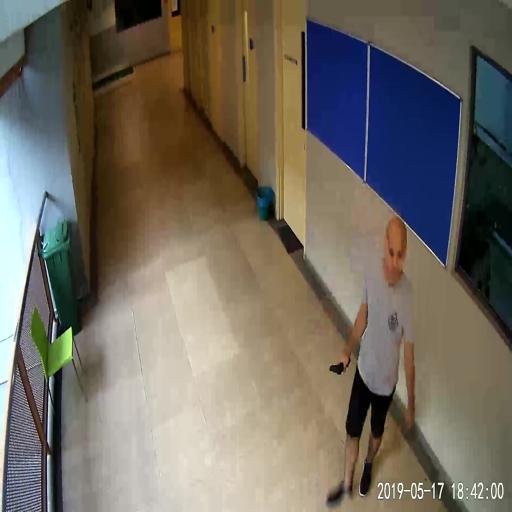pistol: (329, 355, 350, 375)
